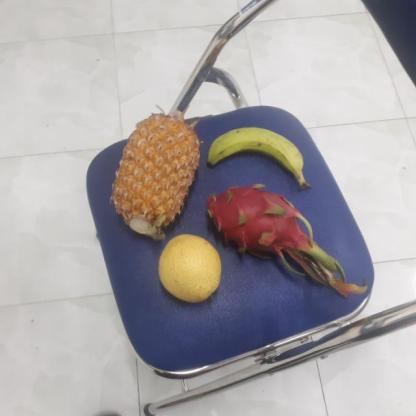banana: (205, 126, 309, 189)
pear: (154, 236, 223, 304)
pineapple: (110, 111, 200, 241)
pitaya: (202, 186, 310, 262)
